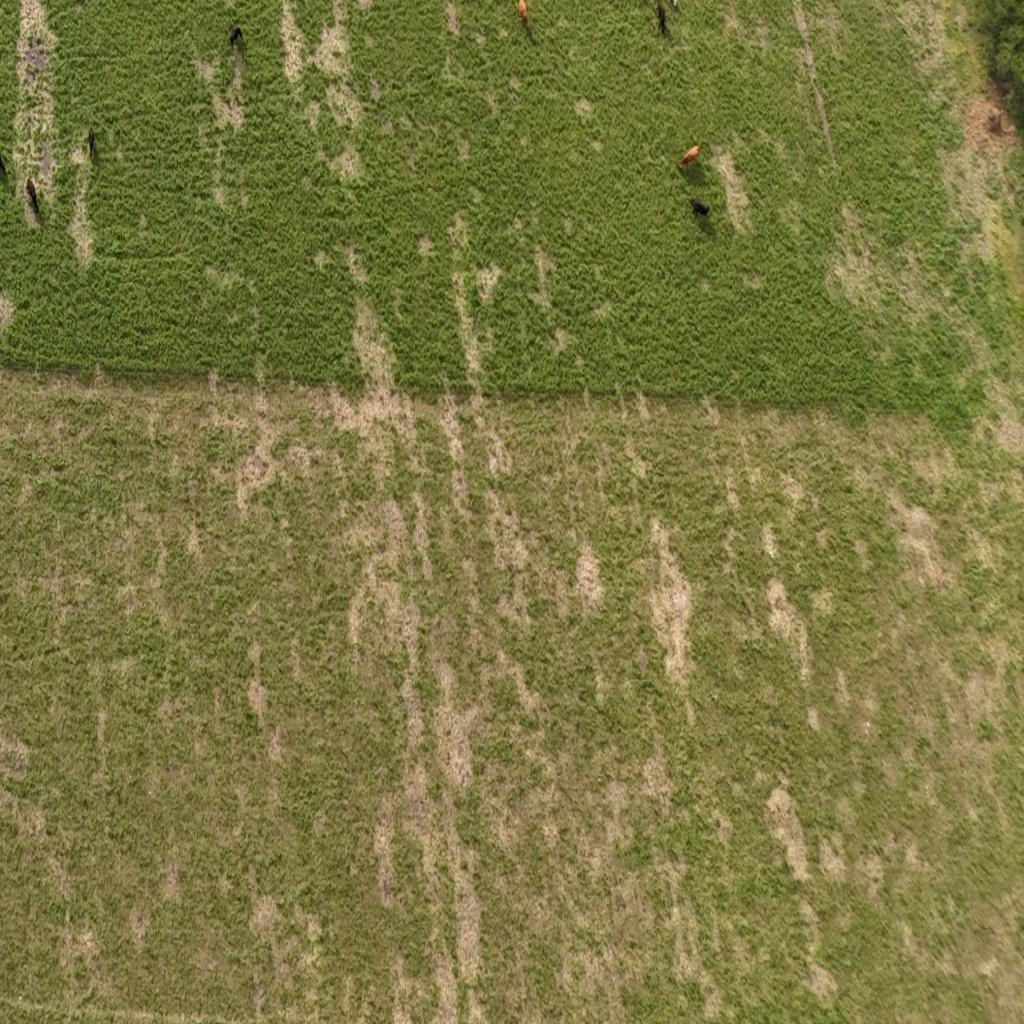cow: (678, 143, 702, 171), (26, 176, 42, 217), (687, 200, 712, 222), (656, 0, 670, 35), (228, 22, 245, 50), (518, 0, 530, 32), (0, 144, 9, 182), (88, 126, 97, 161)
